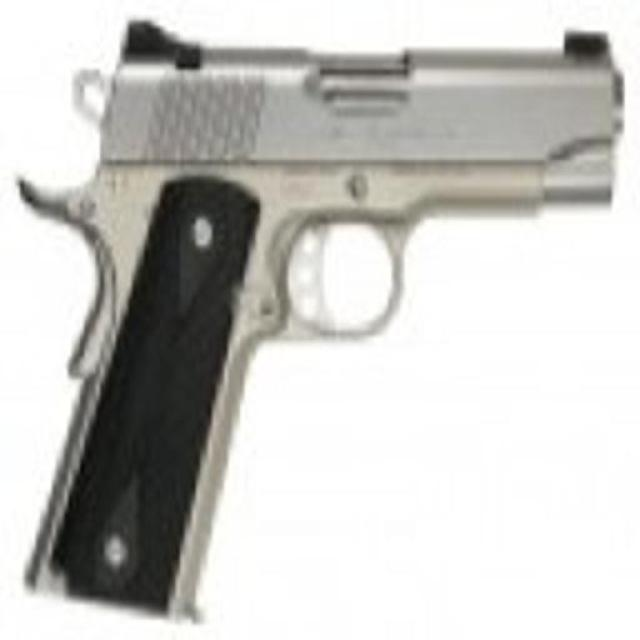pistol: (20, 21, 620, 617)
